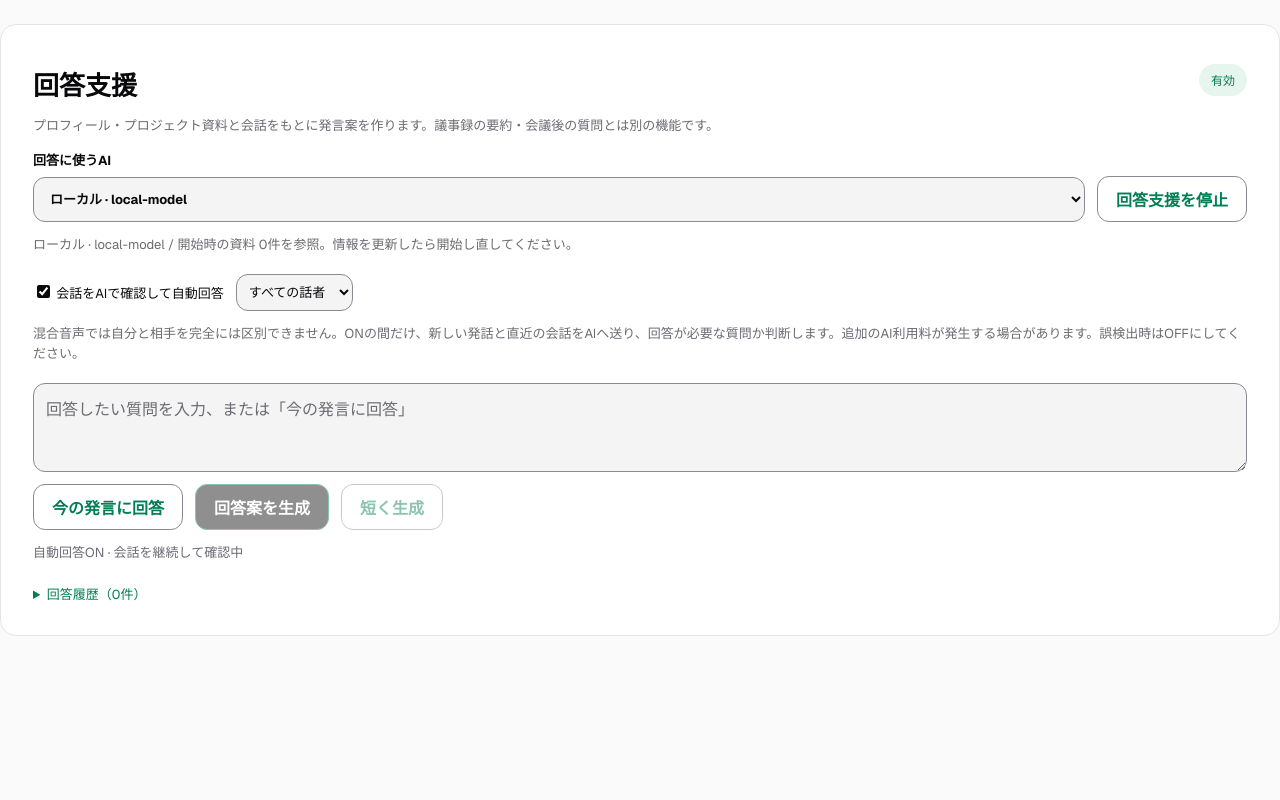
Scenario: answer assistance profile selection › keeps ON when stopping the server monitor fails
Click the checkbox labelled "会話をAIで確認して自動回答" at (44, 292), box [37, 285, 50, 298]
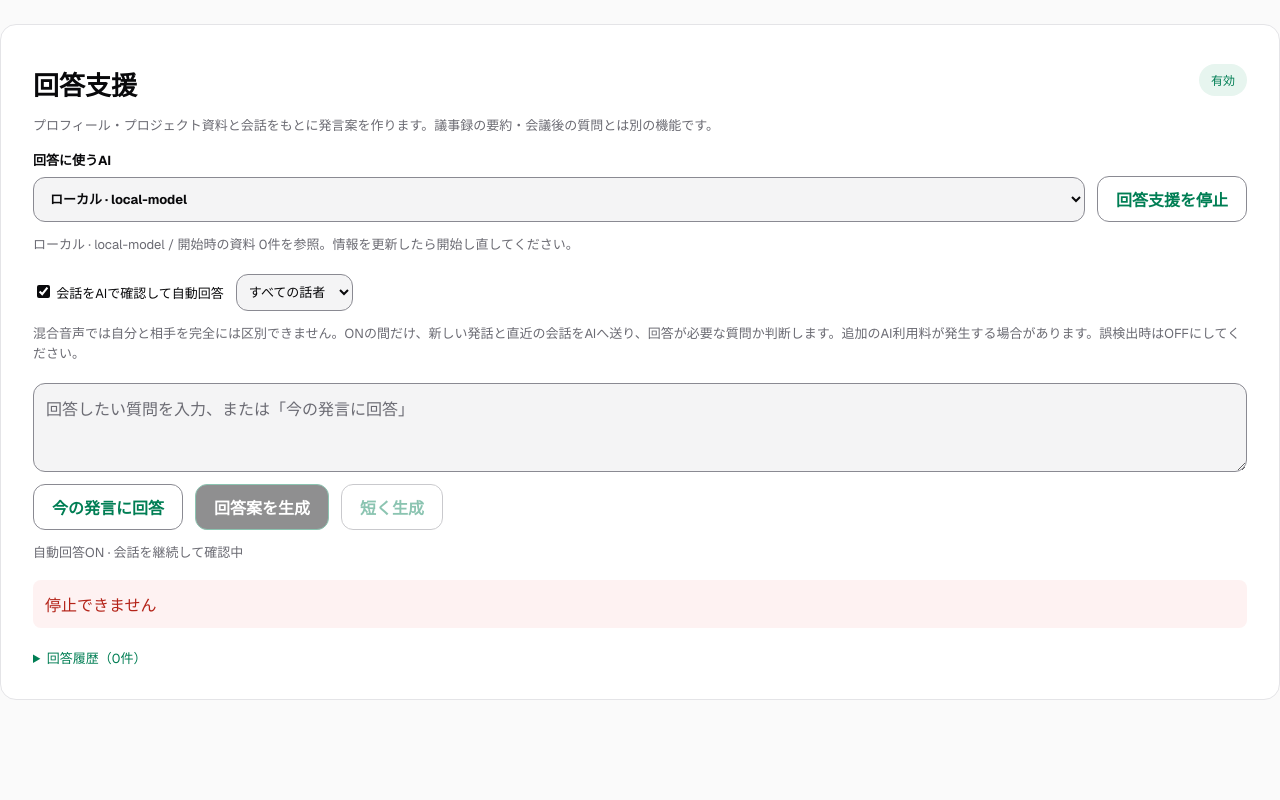
Now the message "停止できません" is shown, box [33, 580, 1247, 628]
